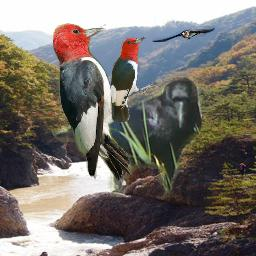Crow: (51, 77, 202, 197)
Swallow: (152, 26, 215, 42)
Woodpecker: (53, 22, 134, 181), (110, 36, 156, 122)
